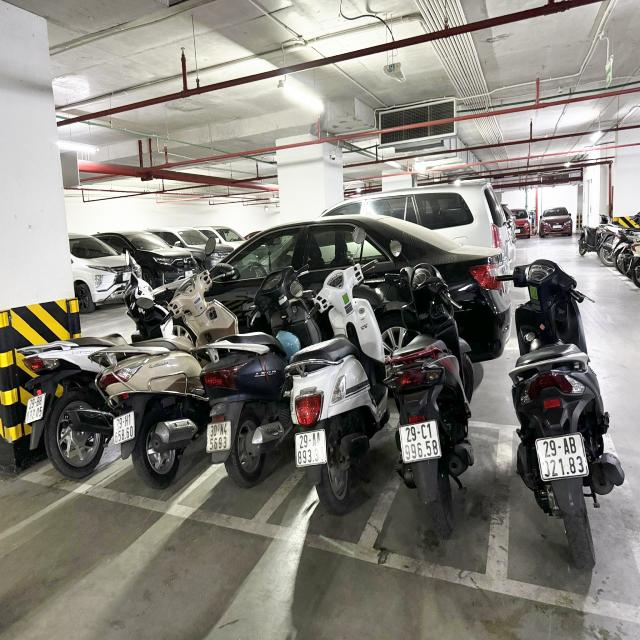license_plate: (537, 433, 589, 481), (401, 423, 441, 462), (297, 430, 327, 468), (114, 411, 138, 446), (207, 423, 233, 450), (26, 395, 48, 423)
